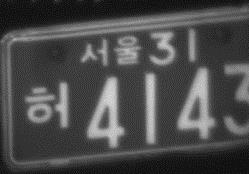1: (139, 71, 163, 147), (185, 25, 201, 67)
3: (221, 61, 249, 137), (147, 29, 175, 67)
4: (173, 64, 217, 141), (85, 75, 125, 149)
서울_O: (79, 32, 142, 70)
허: (24, 81, 71, 131)
